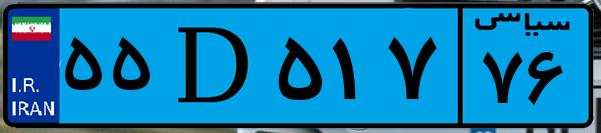1: (330, 28, 385, 110)
5: (270, 28, 330, 110), (57, 26, 110, 100), (110, 28, 158, 98)
6: (525, 38, 570, 115)
7: (385, 28, 445, 110), (475, 38, 525, 113)
D: (158, 12, 270, 120)
